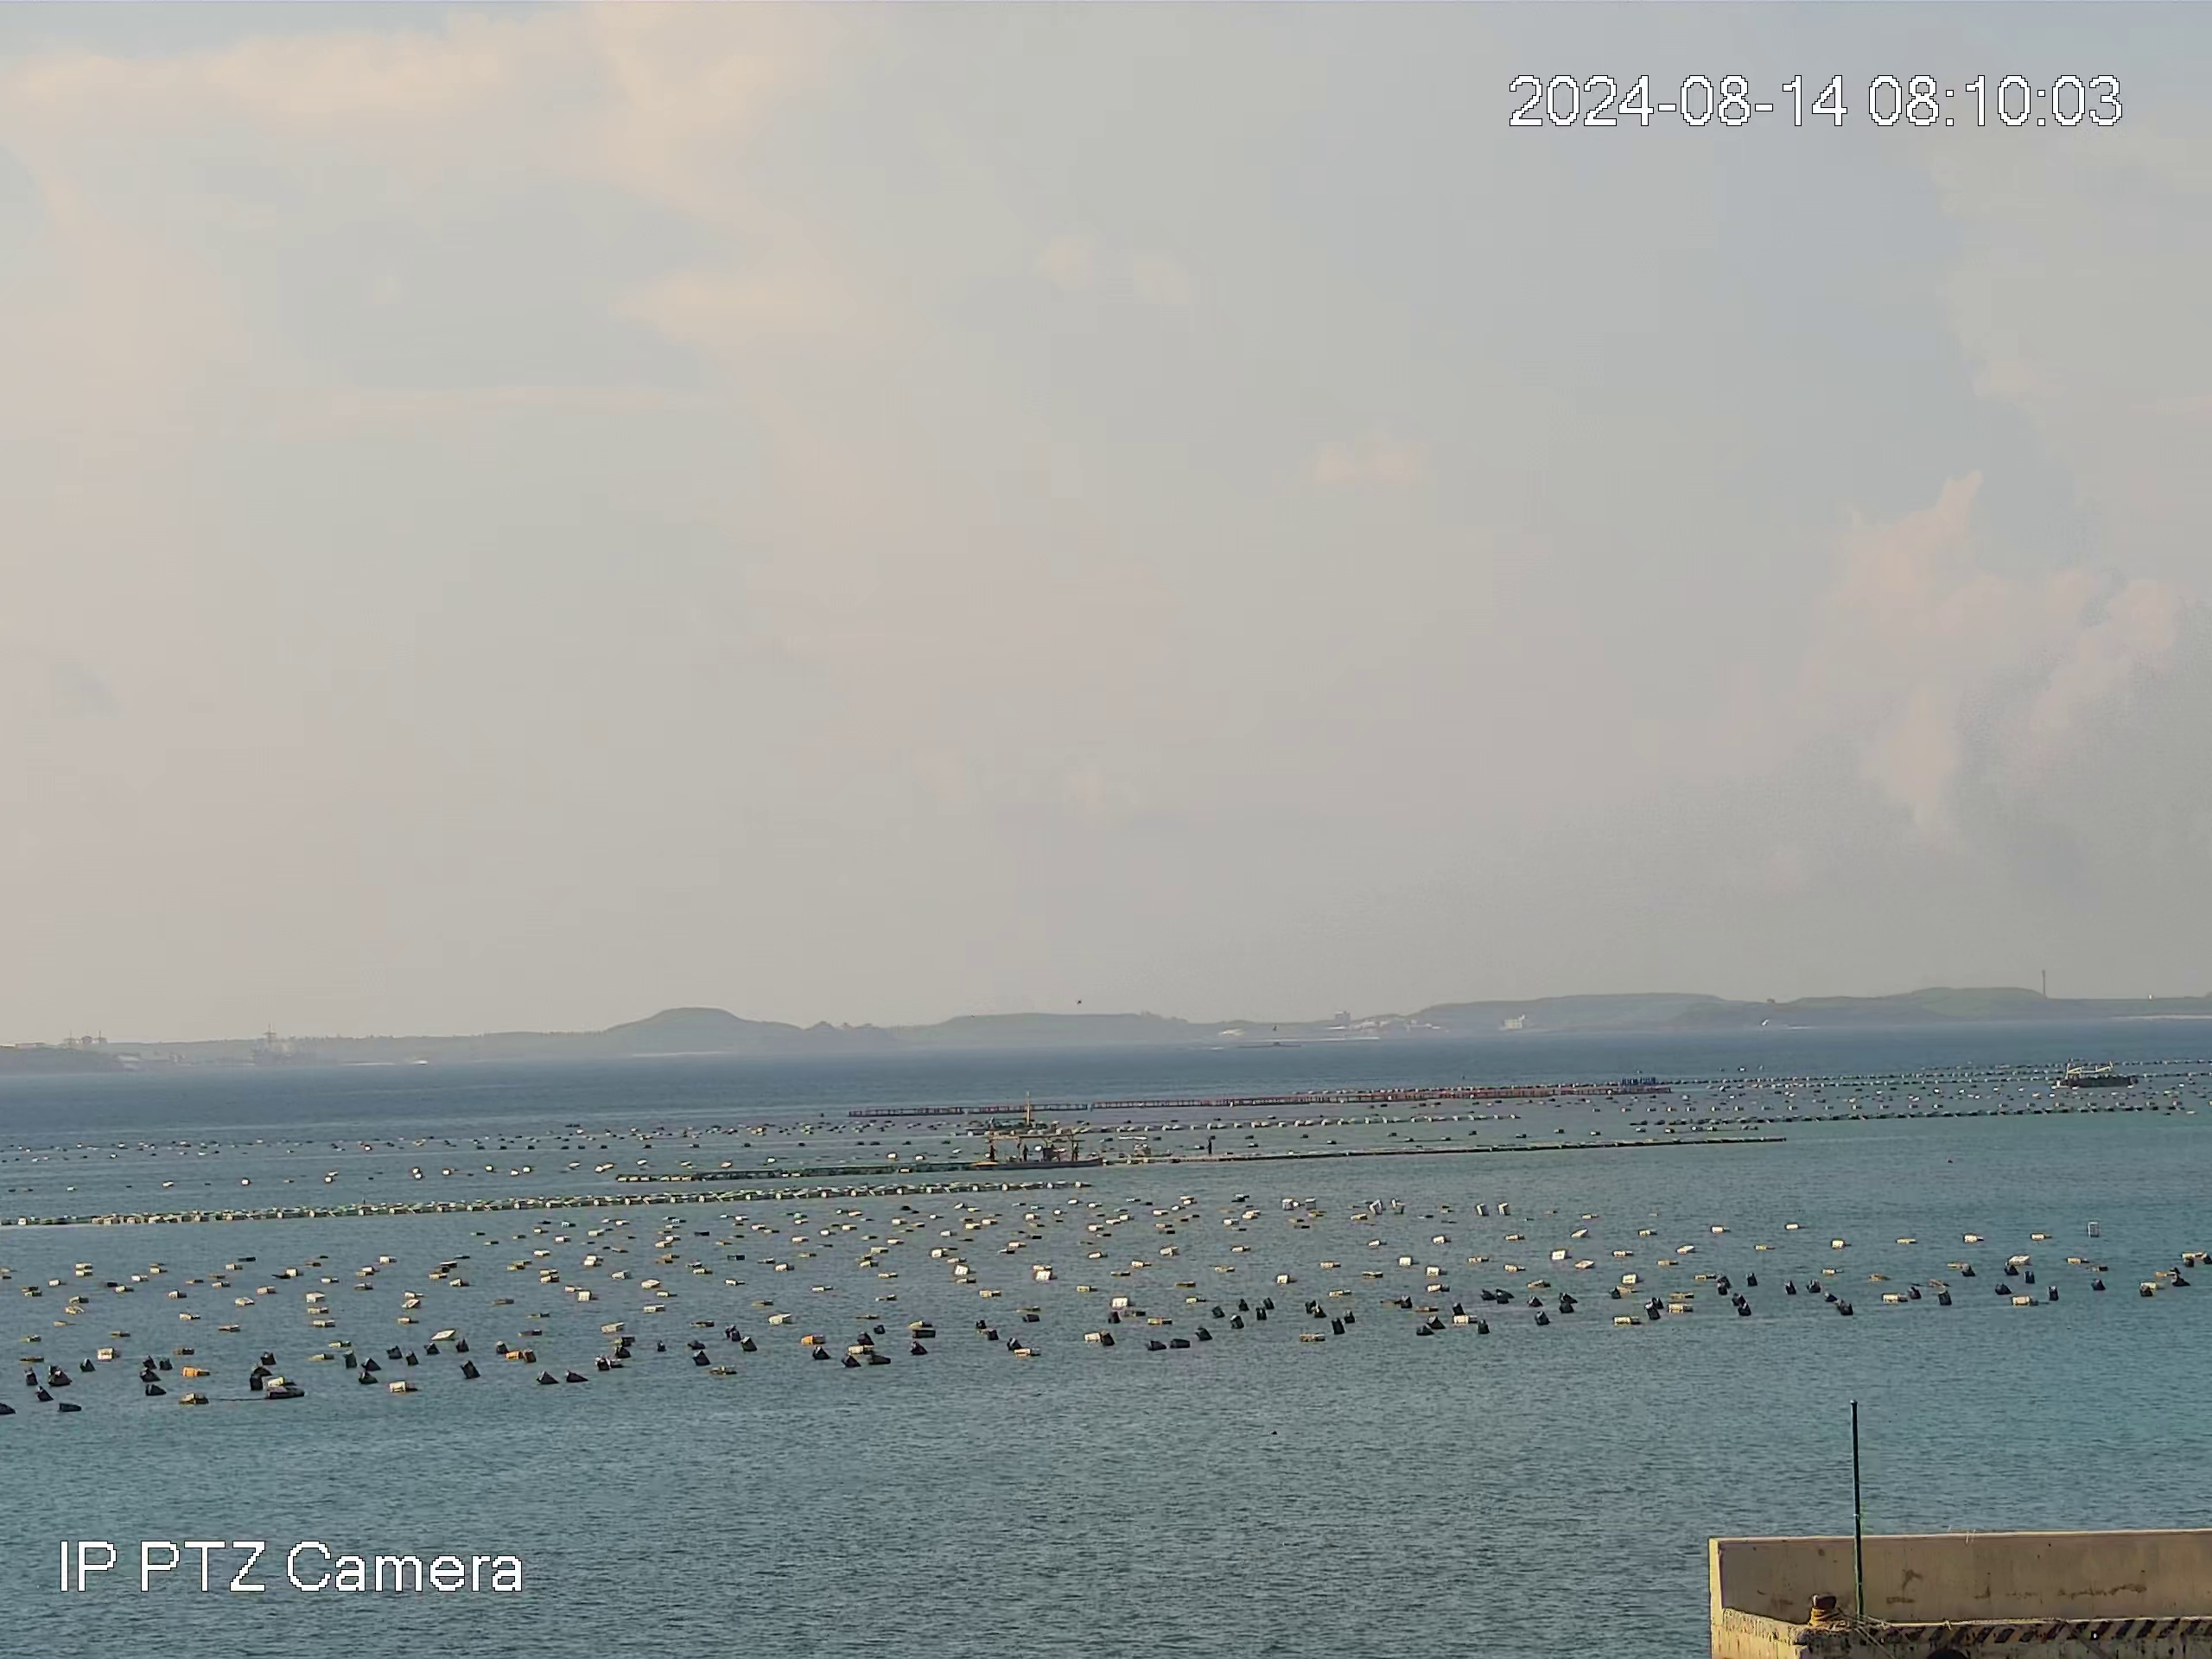boat: (976, 1132, 1100, 1167), (2060, 1058, 2138, 1090)
